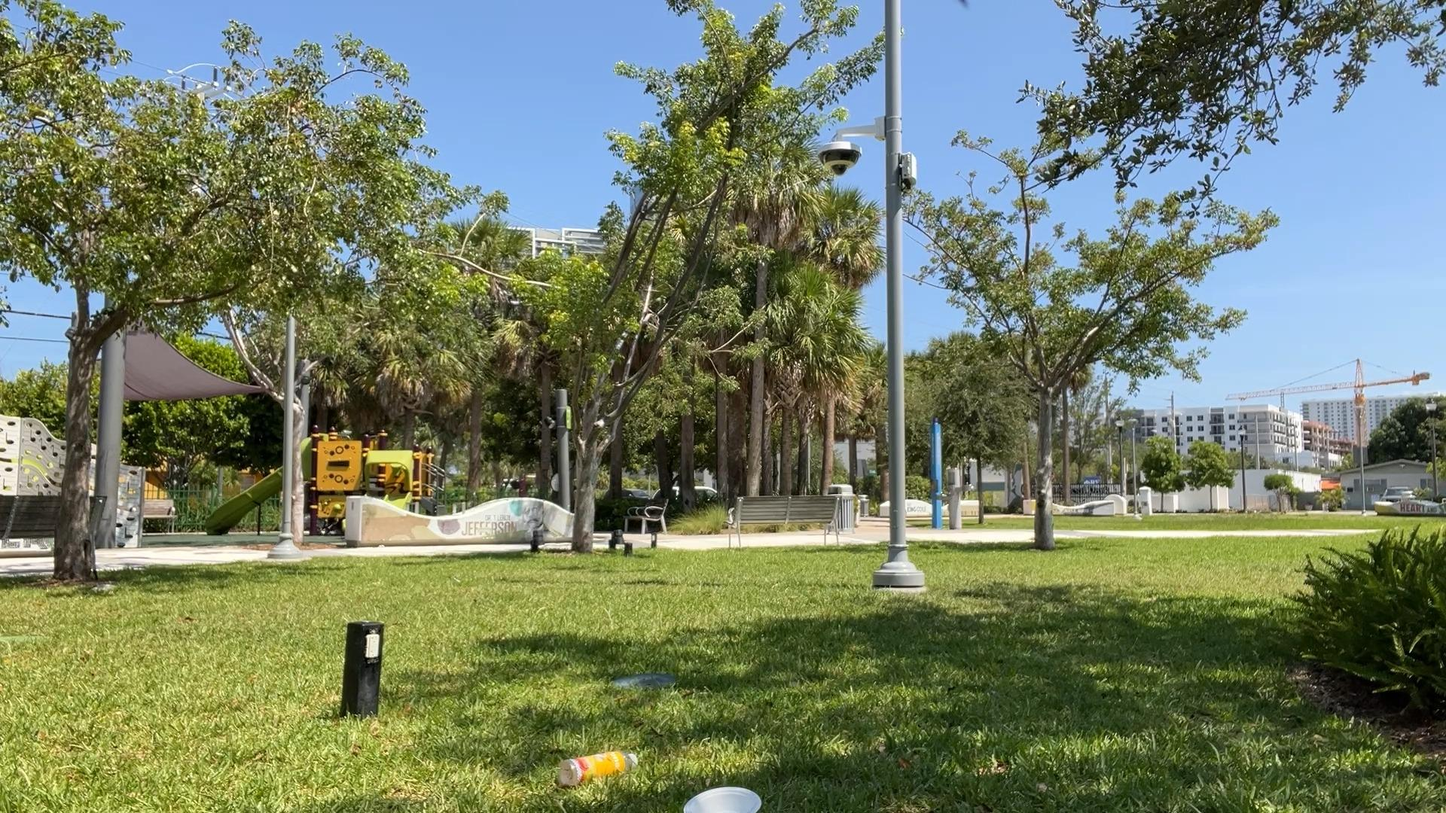Trash: (550, 738, 648, 797), (672, 772, 779, 813)
